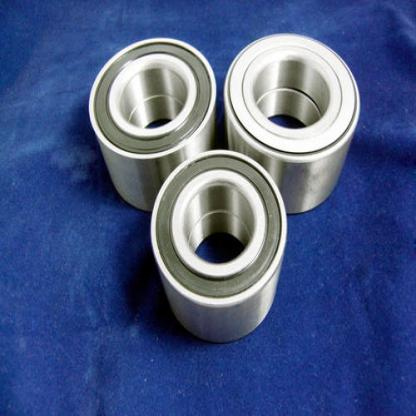FOD: (146, 150, 290, 346), (221, 29, 362, 210), (87, 37, 218, 213)
